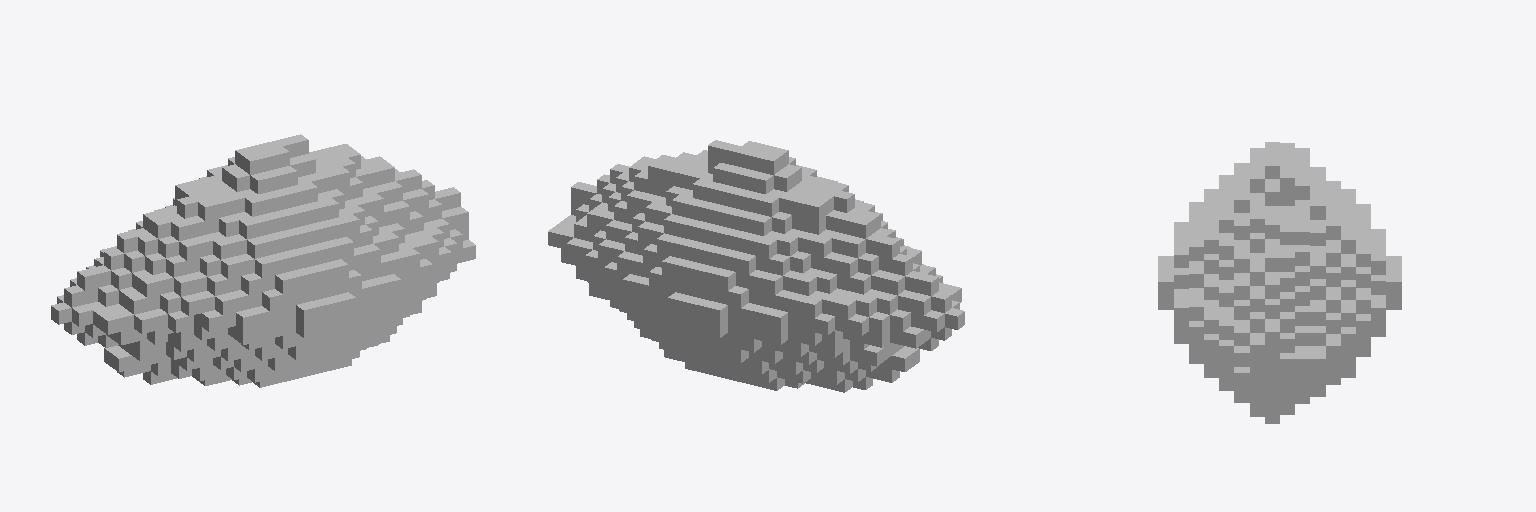
File: SearchEnemyBody.obj
3 renders of one model, left to right at view 1: azimuth 30°, elevation 25°; view 2: azimuth 150°, elevation 25°; view 3: azimuth 270°, elevation 25°, orthographic.
Bounding box in the file's own units: 30 × 15 × 16.